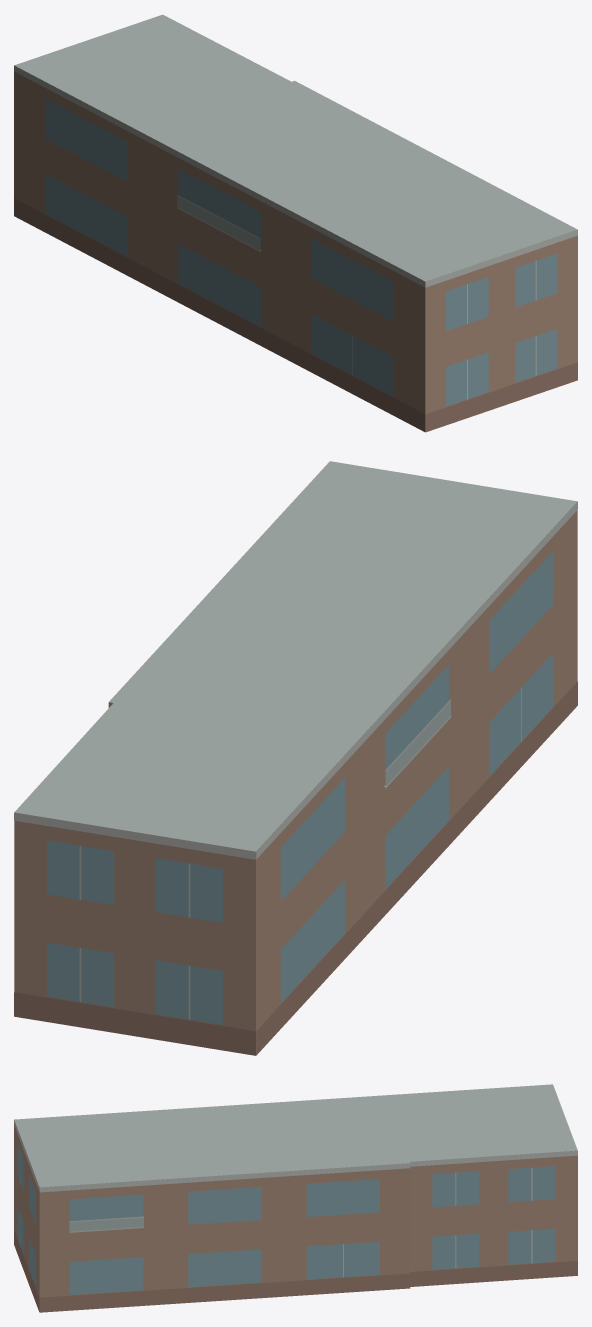
The model's file is survey-upis-32928541.glb.
The picture shows the model from 3 angles, top to bottom: view 1: azimuth 30°, elevation 25°; view 2: azimuth 150°, elevation 25°; view 3: azimuth 270°, elevation 25°; orthographic projection. The views are drawn at different scales.
Visible parts, largest first — view 1: survey-upis-32928541.tmp; view 2: survey-upis-32928541.tmp; view 3: survey-upis-32928541.tmp.
Part boxes in pixels (x1,y1,x2,y2): survey-upis-32928541.tmp: (14,14,577,432); survey-upis-32928541.tmp: (14,461,577,1055); survey-upis-32928541.tmp: (14,1084,577,1312).
Bounding box in the file's own units: 10.79 × 6.1 × 24.91.
